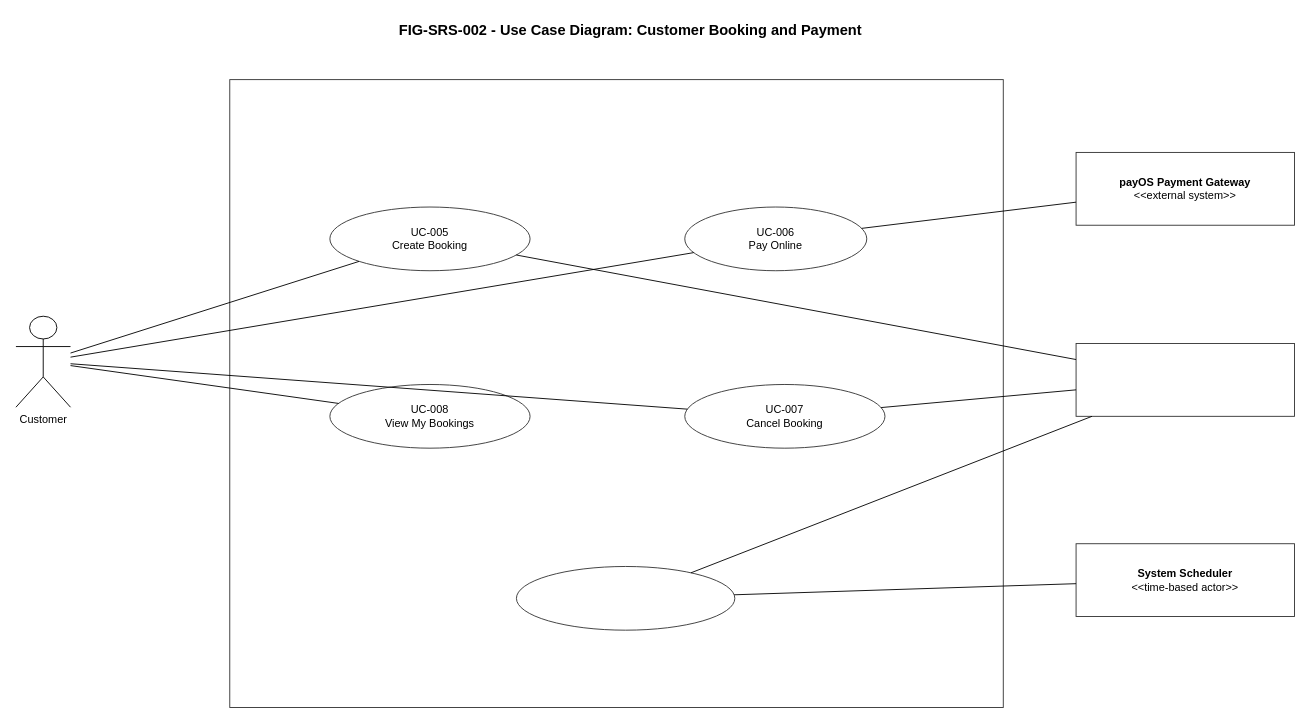
The diagram is 1310 pixels wide and 723 high, and some of its shapes have lost their labels. The shapes that lost their labels are listed below. From the top down, each one's box as (x1, y1, x2, y2) in pixels, then its label:
(229, 79, 1003, 708): Hotel Marketplace Management System
(1075, 343, 1294, 416): Notification Service <<external system / mock>>
(516, 566, 735, 630): UC-024 Expire Unpaid Booking
